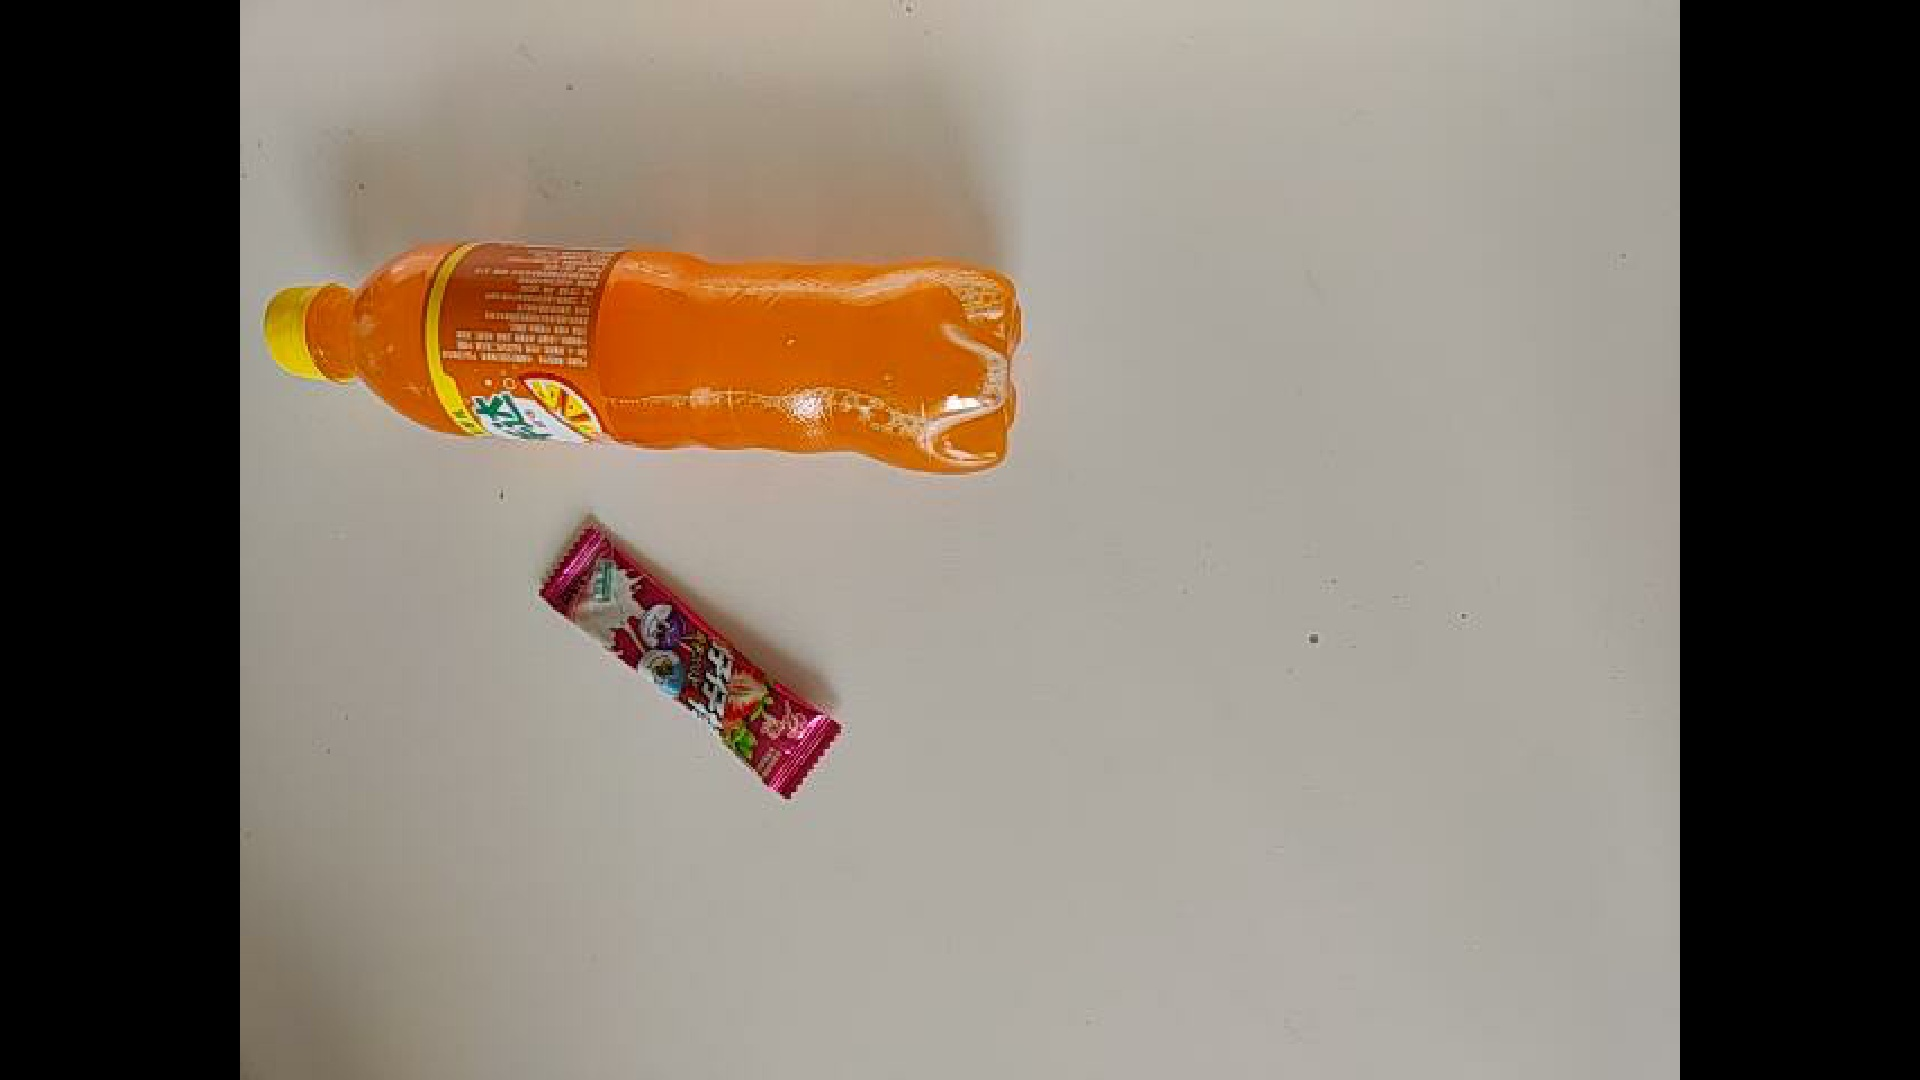fenta: (244, 219, 1029, 462)
sugar: (479, 514, 853, 713)
